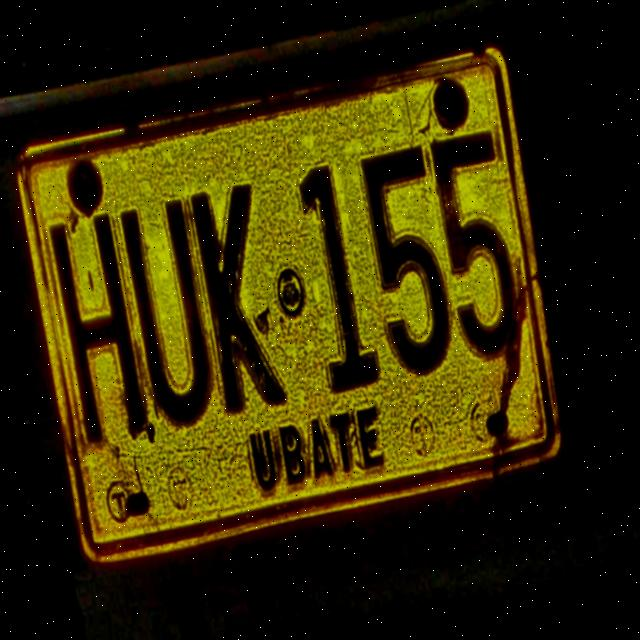1: (285, 152, 393, 404)
5: (352, 135, 464, 387), (424, 121, 536, 366)
H: (44, 209, 154, 453)
K: (185, 177, 295, 424)
U: (116, 193, 223, 435)
